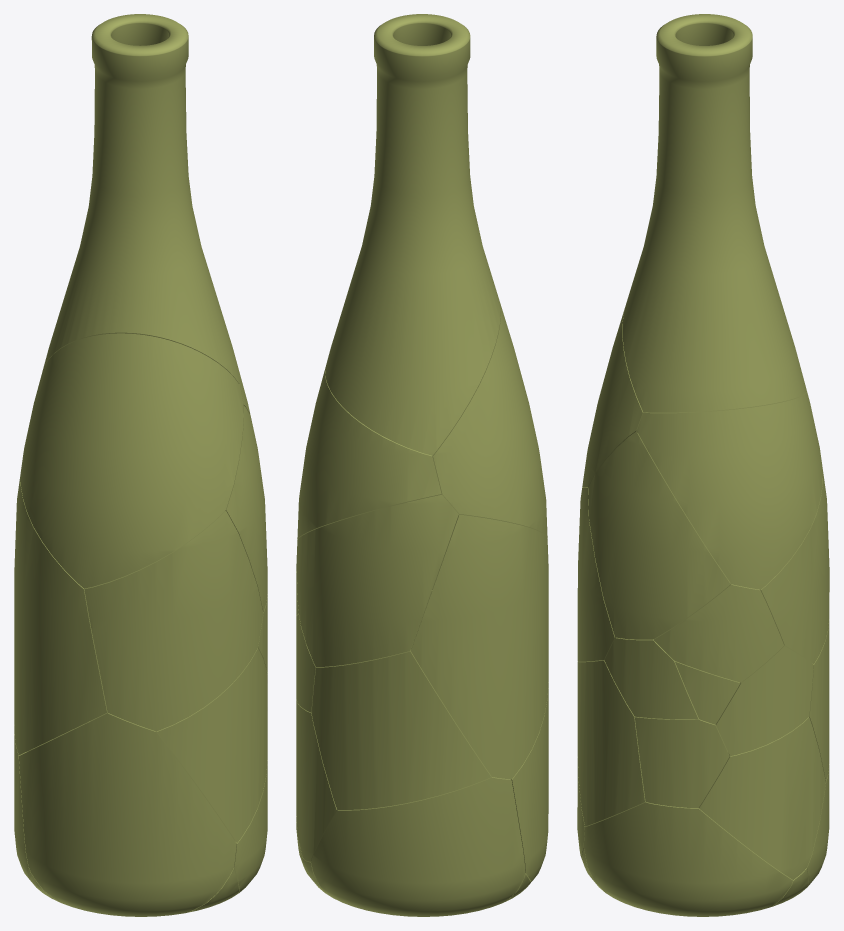
The model's file is bottle_burgundy_shards.glb.
3 views of the same model, side by side, from view 1: azimuth 30°, elevation 25°; view 2: azimuth 150°, elevation 25°; view 3: azimuth 270°, elevation 25° (orthographic).
Parts seen in each view (by area): view 1: Shard_02, Shard_00, Shard_01, Shard_07, Shard_05, Shard_12, Shard_11, Shard_06, Shard_04, Shard_03; view 2: Shard_00, Shard_05, Shard_04, Shard_09, Shard_10, Shard_02, Shard_08, Shard_13, Shard_01, Shard_15; view 3: Shard_00, Shard_08, Shard_11, Shard_06, Shard_13, Shard_12, Shard_14, Shard_16, Shard_15, Shard_09, Shard_17, Shard_02 (+5 smaller).
Part boxes in pixels (x1,y1,x2,y2): Shard_02: (20,333,243,588); Shard_00: (42,14,239,384); Shard_01: (19,713,236,916); Shard_07: (84,510,263,731); Shard_05: (14,474,107,755); Shard_12: (155,648,267,842); Shard_11: (225,405,267,612); Shard_06: (234,760,267,892); Shard_04: (14,721,89,878); Shard_03: (28,867,239,912); Shard_00: (325,14,500,455); Shard_05: (411,514,548,779); Shard_04: (311,776,525,916); Shard_09: (296,494,458,666); Shard_10: (311,649,491,809); Shard_02: (432,301,547,537); Shard_08: (297,366,441,539); Shard_13: (296,699,337,861); Shard_01: (511,682,548,881); Shard_15: (296,615,316,712); Shard_00: (622,14,806,412); Shard_08: (637,391,822,589); Shard_11: (588,431,730,639); Shard_06: (584,802,792,916); Shard_13: (699,717,825,879); Shard_12: (577,660,645,826); Shard_14: (653,583,783,682); Shard_16: (635,717,729,807); Shard_15: (716,646,813,756); Shard_09: (760,472,829,663); Shard_17: (604,637,698,719); Shard_02: (582,307,645,487).
Bounding box in the file's own units: 0.0809 × 0.296 × 0.0806.
